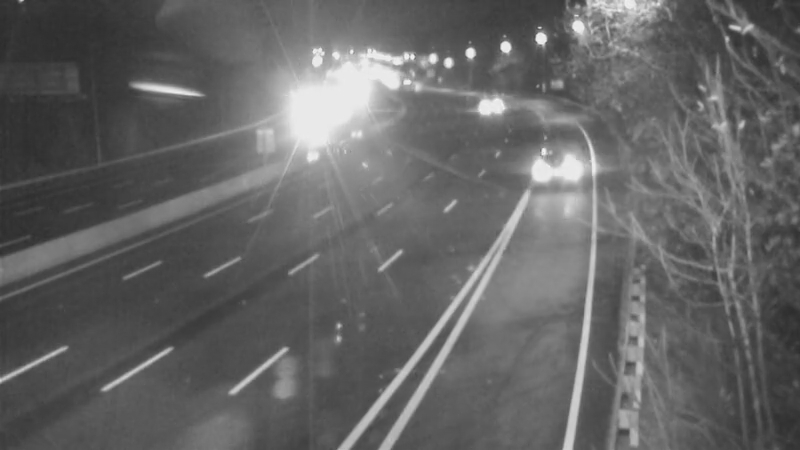vehicle: (509, 133, 589, 213), (458, 78, 508, 128)
